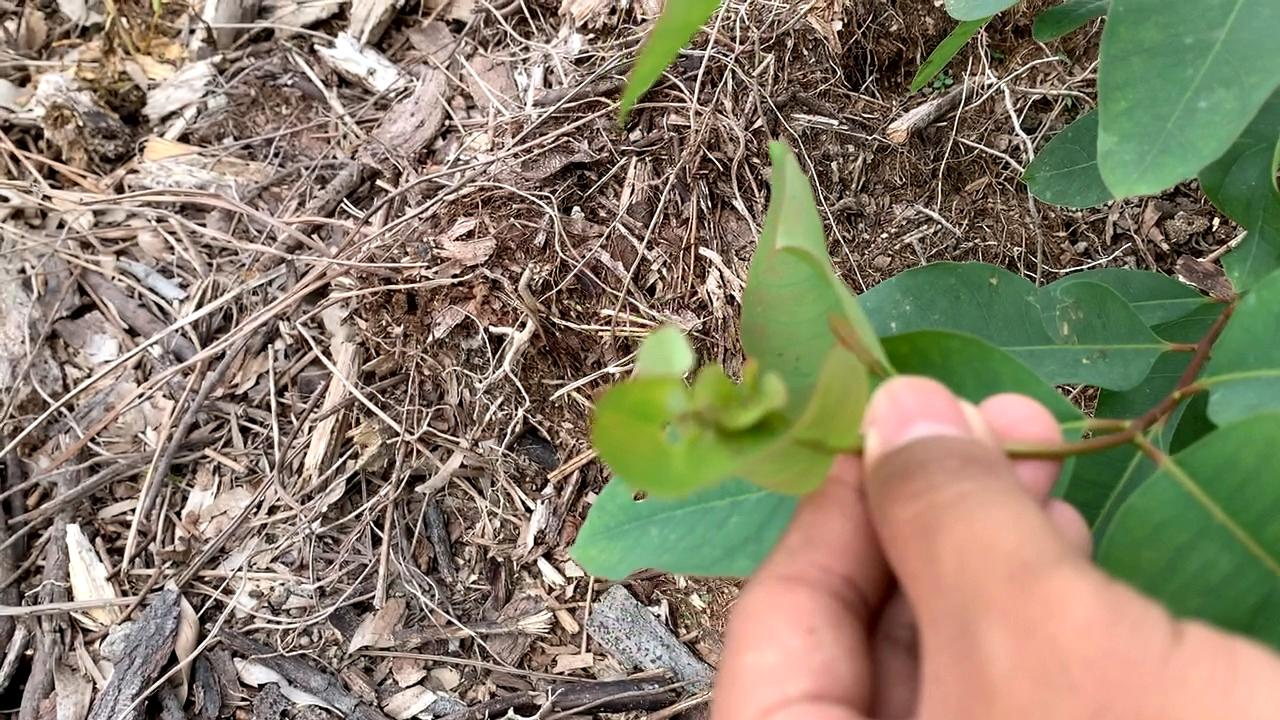Leaf Roller - Leaf: (565, 356, 850, 496)
